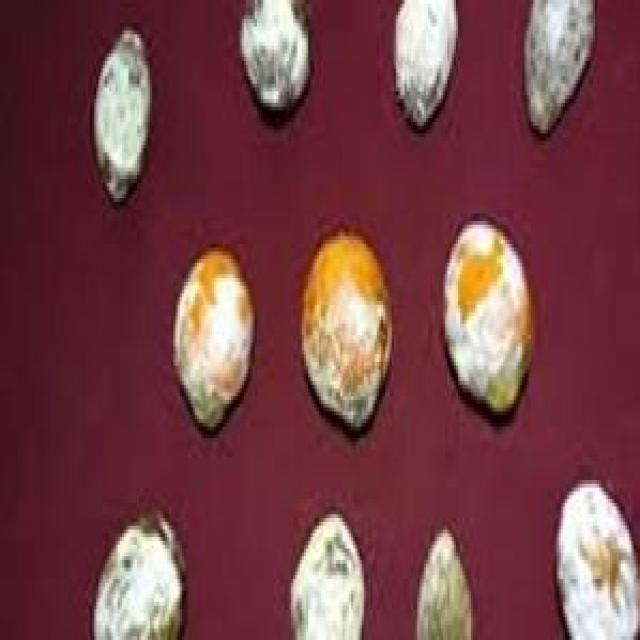damaged: (302, 232, 390, 427), (443, 221, 529, 411), (173, 255, 253, 423), (557, 488, 638, 636), (94, 514, 180, 636), (96, 30, 148, 198), (527, 0, 593, 130), (293, 518, 362, 636), (396, 0, 454, 122), (242, 0, 306, 107), (417, 530, 471, 636)
